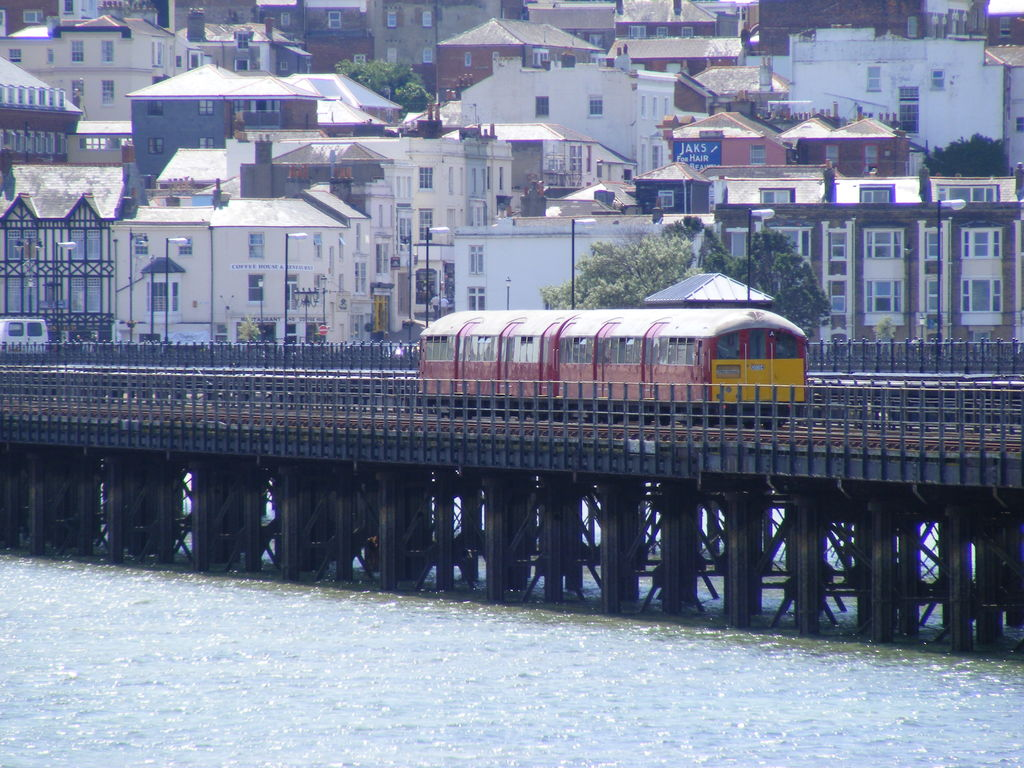train: (421, 303, 805, 416)
